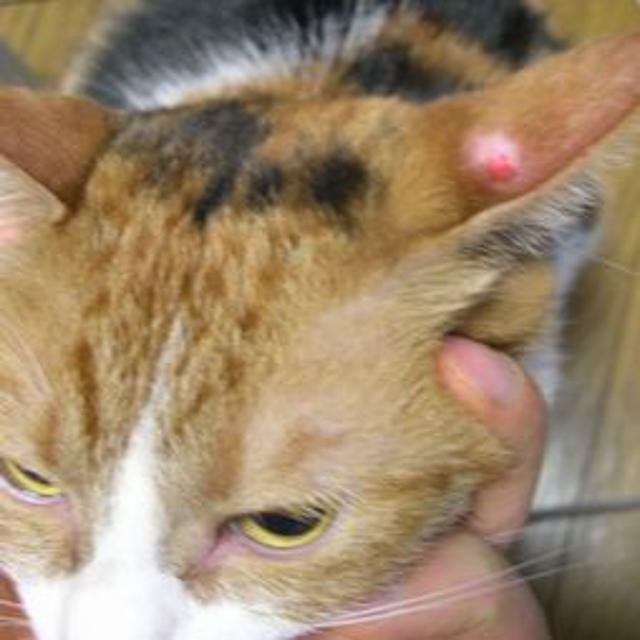lump_and_bump: (469, 129, 523, 189)
